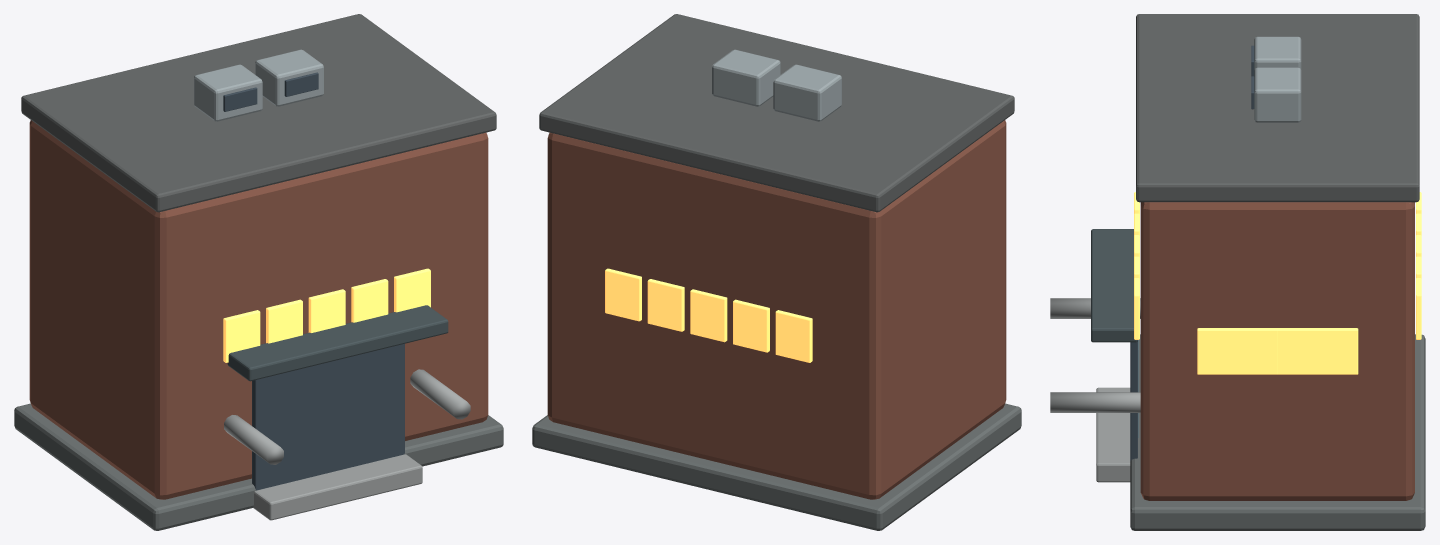
Rendered from civic_fire_station.glb.
The picture shows the model from 3 angles, left to right: view 1: azimuth 30°, elevation 25°; view 2: azimuth 150°, elevation 25°; view 3: azimuth 270°, elevation 25°; orthographic projection. The views are drawn at different scales.
Parts seen in each view (by area): view 1: main_massing, roof_slab, fire_station_door, foundation, civic_canopy, civic_steps, hvac_unit, hvac_unit.001, front_window, front_window.002, front_window.003, front_window.004 (+5 smaller); view 2: main_massing, roof_slab, foundation, hvac_unit, hvac_unit.001, rear_window.002, rear_window, rear_window.003, rear_window.004, rear_window.001; view 3: main_massing, roof_slab, foundation, civic_canopy, hvac_unit.001, civic_steps, side_window, side_window.003, civic_column.001, side_window.001, side_window.002, hvac_unit (+2 smaller).
Part boxes in pixels (x1,y1,x2,y2): main_massing: [29, 120, 488, 499]; roof_slab: [21, 14, 496, 212]; fire_station_door: [252, 343, 404, 490]; foundation: [14, 403, 503, 530]; civic_canopy: [227, 305, 448, 381]; civic_steps: [253, 454, 422, 520]; hvac_unit: [194, 64, 262, 121]; hvac_unit.001: [255, 49, 323, 106]; front_window: [223, 310, 260, 362]; front_window.002: [308, 289, 345, 332]; front_window.003: [351, 279, 388, 322]; front_window.004: [394, 268, 430, 312]; main_massing: [547, 120, 1006, 499]; roof_slab: [539, 14, 1014, 212]; foundation: [532, 403, 1021, 530]; hvac_unit: [773, 64, 841, 121]; hvac_unit.001: [712, 49, 780, 106]; rear_window.002: [690, 289, 727, 342]; rear_window: [775, 310, 812, 362]; rear_window.003: [647, 279, 684, 331]; rear_window.004: [605, 268, 641, 321]; rear_window.001: [733, 299, 769, 352]; main_massing: [1140, 202, 1414, 500]; roof_slab: [1136, 14, 1419, 202]; foundation: [1130, 334, 1425, 530]; civic_canopy: [1091, 229, 1137, 342]; hvac_unit.001: [1254, 67, 1301, 122]; civic_steps: [1096, 387, 1130, 482]; side_window: [1317, 328, 1358, 374]; side_window.003: [1197, 328, 1237, 374]; civic_column.001: [1050, 392, 1140, 412]; side_window.001: [1278, 328, 1317, 374]; side_window.002: [1238, 328, 1277, 374]; hvac_unit: [1254, 36, 1301, 69].
Bounding box in the file's own units: 1.6 × 1.61 × 1.44.
